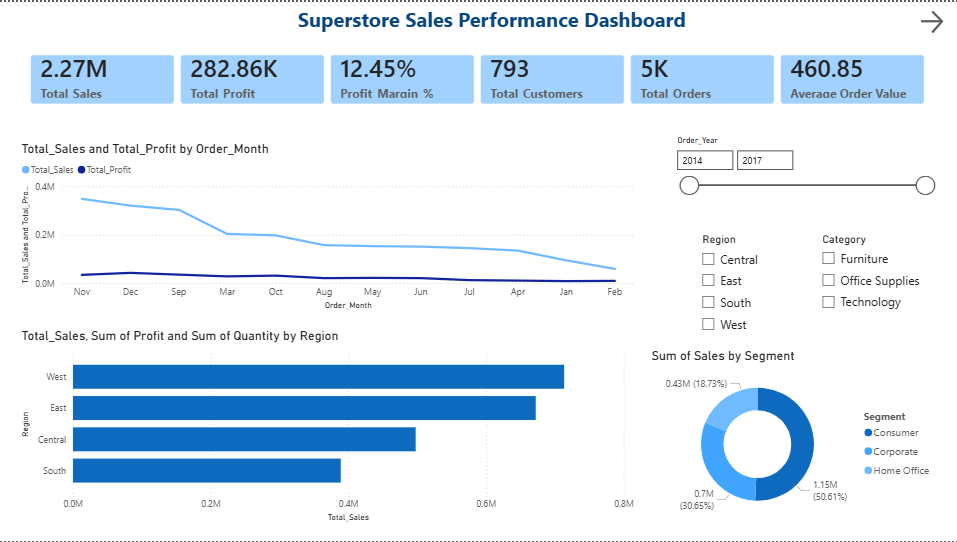

The dashboard page shown, as its layout file describes it:
{"tool":"powerbi","page":{"name":"Page 1: Executive Summary","canvas":[1280,720],"ordinal":0},"visuals":[{"type":"cardVisual","fields":{"Data":["SALES.Total_Sales","SALES.Total_Profit","SALES.Profit_Margin_%","SALES.Total_Customers","SALES.Total_Orders","SALES.Average Order Value"]},"box":[24.3,52.9,1231.4,100],"z":0},{"type":"lineChart","fields":{"Category":["SALES.Order_Month"],"Y":["SALES.Total_Sales","SALES.Total_Profit"]},"box":[24.3,185.7,827.1,230],"z":1000},{"type":"clusteredBarChart","fields":{"Category":["SALES.Region"],"Y":["SALES.Total_Sales"]},"box":[24.3,435.7,827.1,262.9],"z":2000},{"type":"donutChart","fields":{"Category":["SALES.Segment"],"Y":["Sum(SALES.Sales)"]},"box":[865.7,461.4,390,237.1],"z":3000},{"type":"slicer","fields":{"Values":["SALES.Region"]},"box":[924.3,302.9,150,144.3],"z":4000},{"type":"slicer","fields":{"Values":["SALES.Category"]},"box":[1085.7,302.9,170,142.9],"z":5000},{"type":"slicer","fields":{"Values":["SALES.Order_Year"]},"box":[891.4,172.9,364.3,95.7],"z":6000},{"type":"textbox","box":[392.9,0,531.4,52.9],"z":7000},{"type":"actionButton","box":[1223.3,6.7,56.7,40],"z":8000}]}

Visuals, with their boxes in screenshot pixels (x1, y1, x2, y2), scaled from the page's 1280x720 canvas onto the 957x542 screenshot:
cardVisual - SALES.Total_Sales x SALES.Total_Profit: box=[18, 40, 939, 115]
lineChart - SALES.Order_Month x SALES.Total_Sales: box=[18, 140, 637, 313]
clusteredBarChart - SALES.Region x SALES.Total_Sales: box=[18, 328, 637, 526]
donutChart - SALES.Segment x Sum(SALES.Sales): box=[647, 347, 939, 526]
slicer - SALES.Region: box=[691, 228, 803, 337]
slicer - SALES.Category: box=[812, 228, 939, 336]
slicer - SALES.Order_Year: box=[666, 130, 939, 202]
textbox: box=[294, 0, 691, 40]
actionButton: box=[915, 5, 956, 35]
